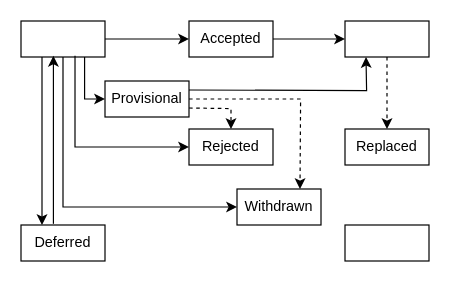
This 450x282 diagram has some shape labels left out. Each missing label, with the box of its shape:
Active: (344, 224, 429, 261)
Draft: (20, 20, 105, 57)
Final: (344, 20, 429, 57)
